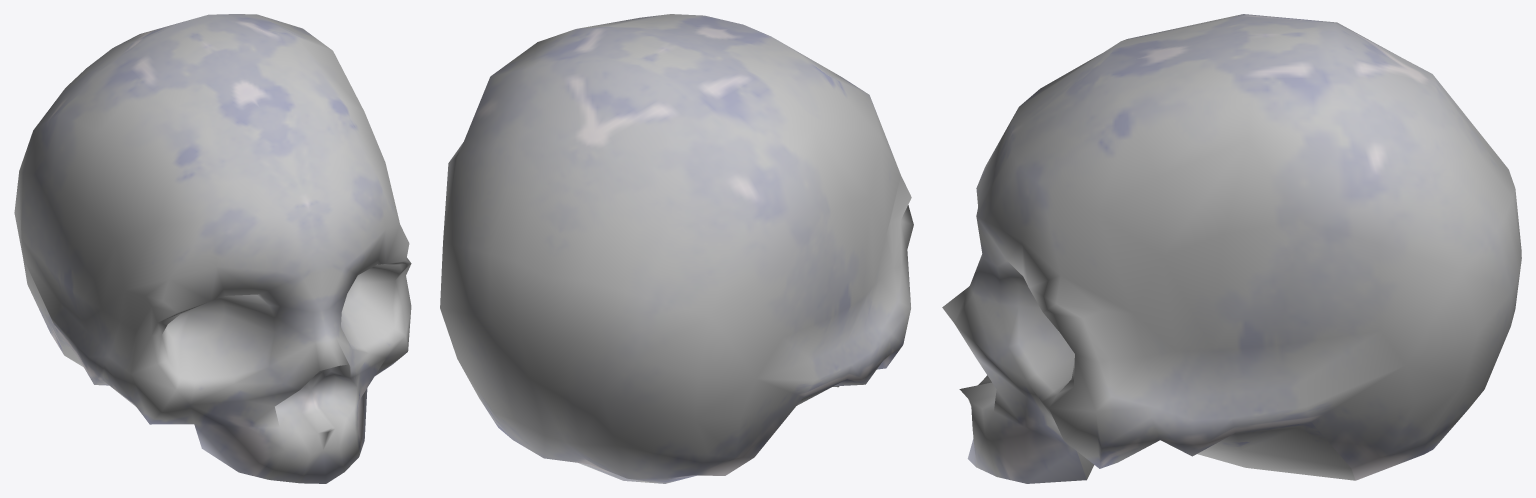
The model's file is Skull_Top.fbx.
3 views of the same model, side by side, from view 1: azimuth 30°, elevation 25°; view 2: azimuth 150°, elevation 25°; view 3: azimuth 270°, elevation 25° (orthographic). The views are drawn at different scales.
Visible parts, largest first — view 1: Skull_Top; view 2: Skull_Top; view 3: Skull_Top.
Boxes of the visible parts, x1,y1,x2,y2 form: Skull_Top: (14,14,411,483); Skull_Top: (440,14,913,483); Skull_Top: (942,14,1521,483).
Size of the model in its own units: 15.31 by 17.39 by 21.31.
